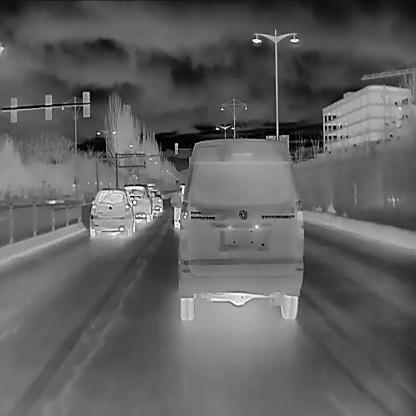car: (169, 136, 304, 321), (88, 186, 136, 236), (120, 182, 155, 221), (171, 182, 186, 227), (147, 189, 163, 212)
